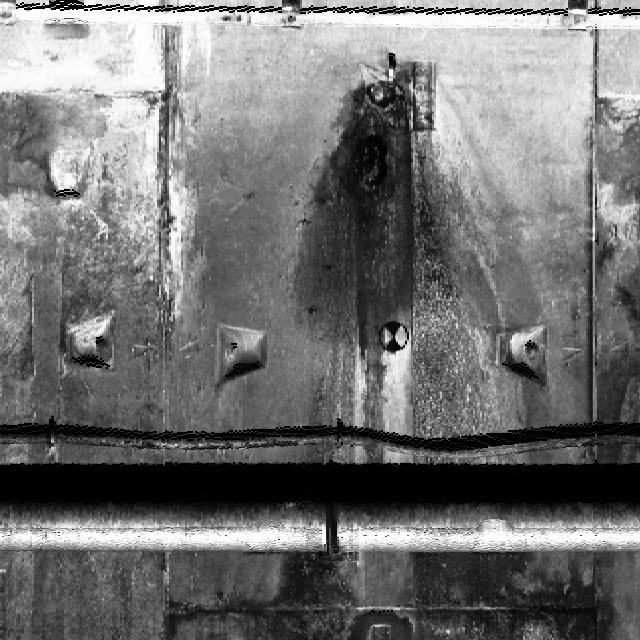leakage: (284, 55, 513, 458), (162, 545, 622, 639)
